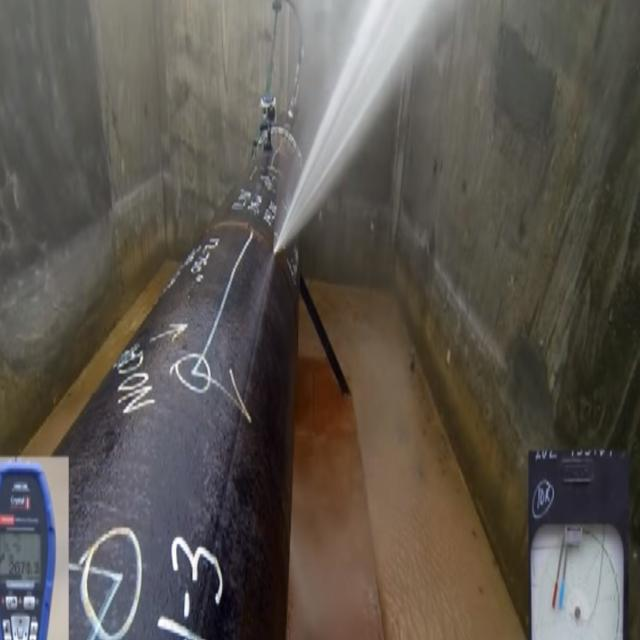leak: (275, 0, 426, 251)
